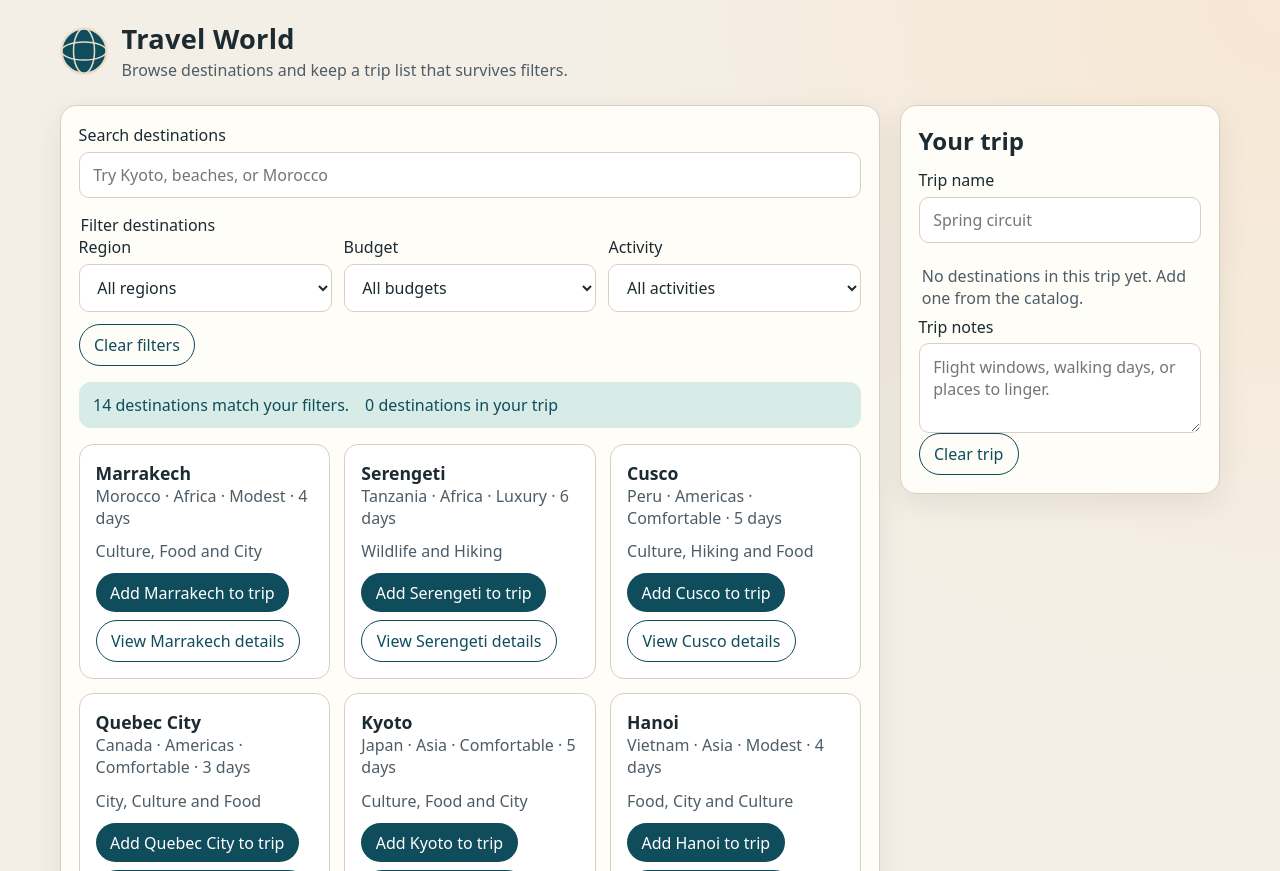
Travel World app › clears the trip name, notes, and selected destinations
Click the button "Add Kyoto to trip" at (439, 843), box [361,823,518,862]
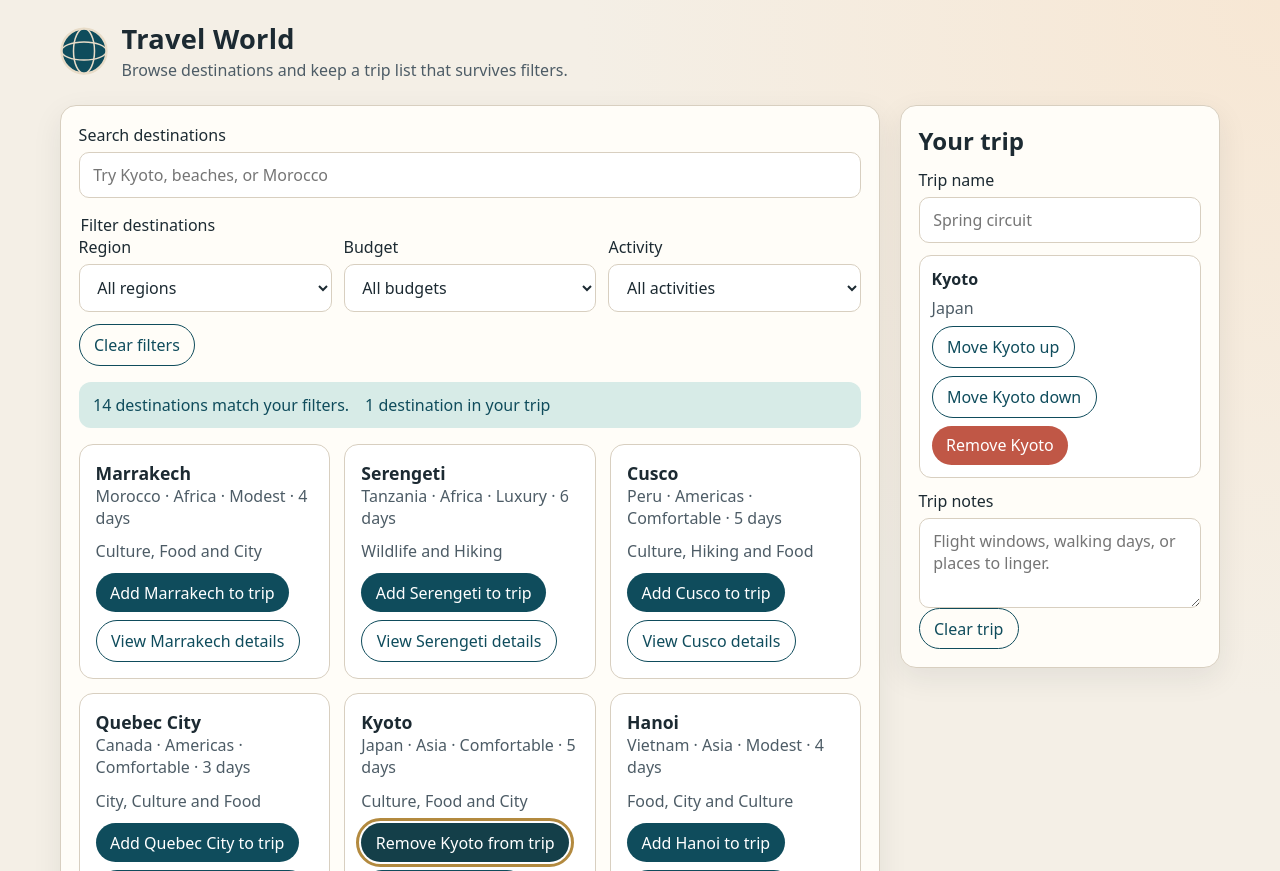
Type "Cherry blossom week" into the field labelled "Trip name" at (1060, 220), box [919,197,1201,243]
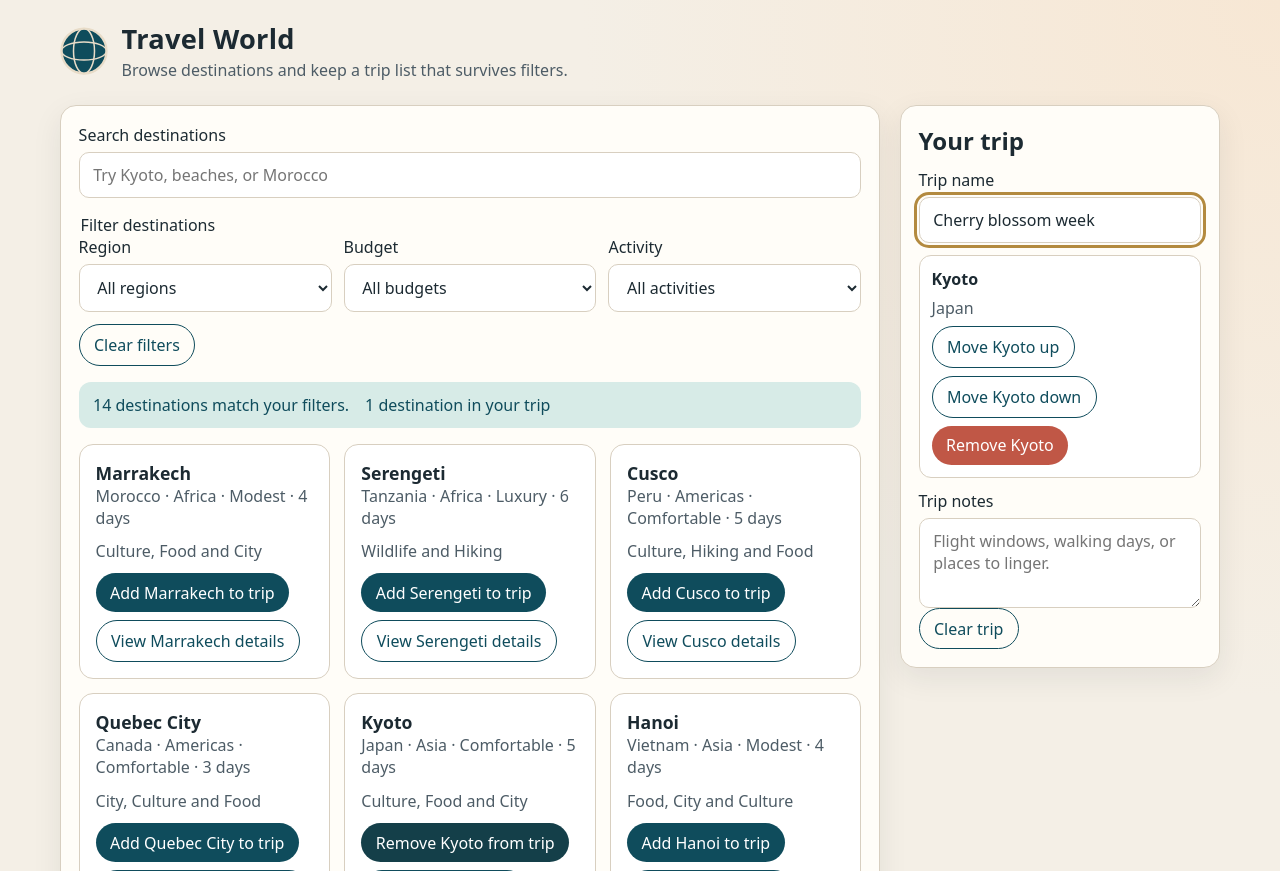
Type "Book the ryokan early" into the text box labelled "Trip notes" at (1060, 563), box [919,518,1201,608]
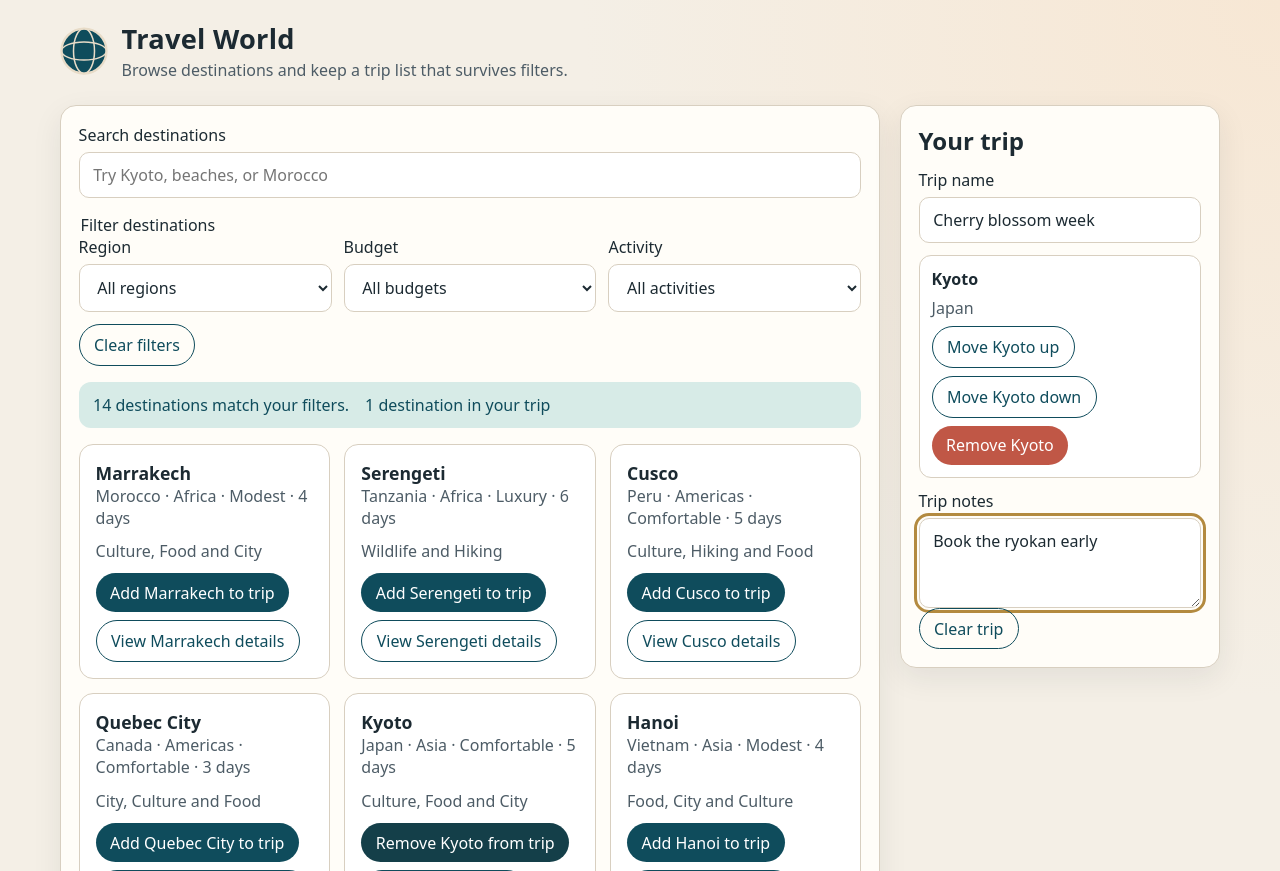
Click the button "Clear trip" at (969, 628), box [919,608,1019,649]
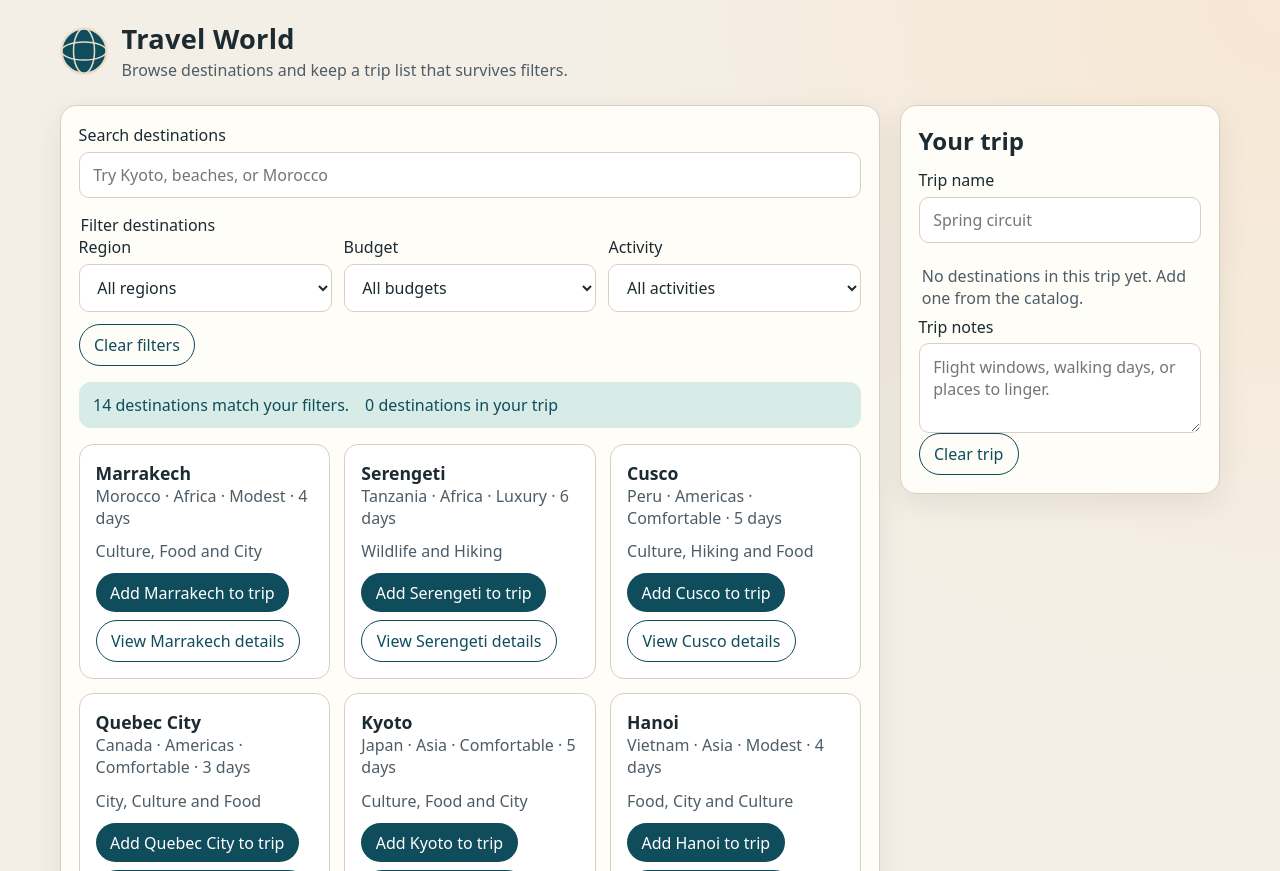
expect the field labelled "Trip name" is empty: met, box [919,197,1201,243]
expect the text box labelled "Trip notes" is empty: met, box [919,343,1201,433]
expect the text "No destinations in this trip yet. Add one from the catalog." is shown: met, box [919,243,1201,316]
